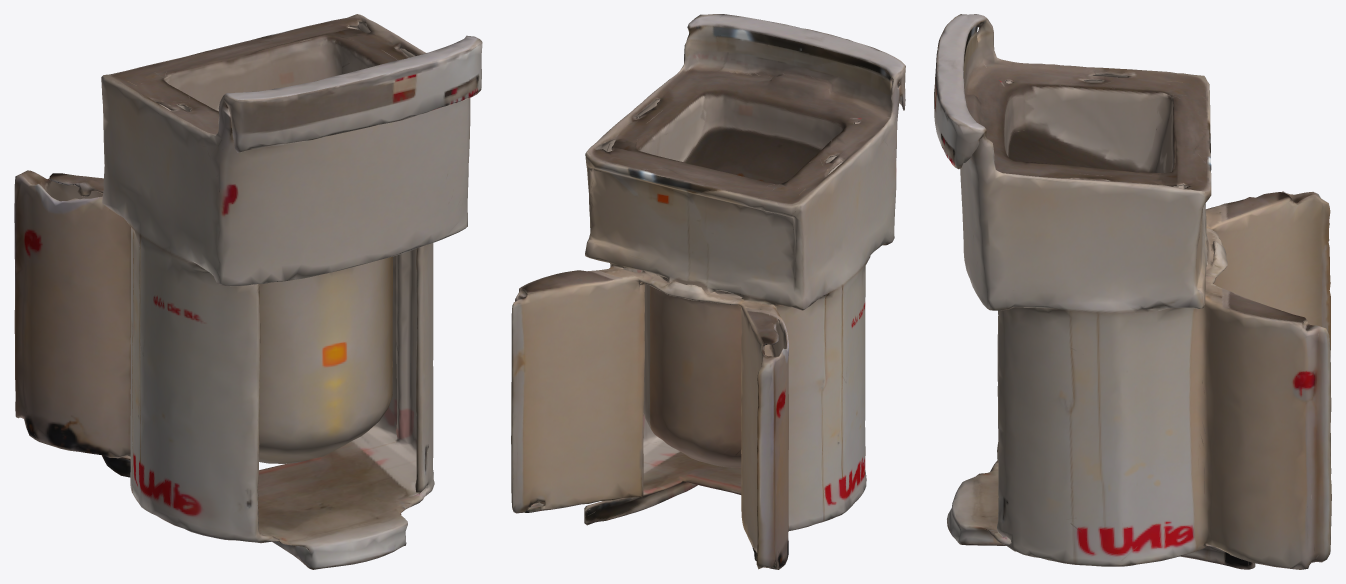
The model's file is rotocompactador.glb.
3 views of the same model, side by side, from view 1: azimuth 30°, elevation 25°; view 2: azimuth 150°, elevation 25°; view 3: azimuth 270°, elevation 25° (orthographic). The views are drawn at different scales.
Size of the model in its own units: 1.34 by 2.02 by 1.59.
1 material, 1 textured.
